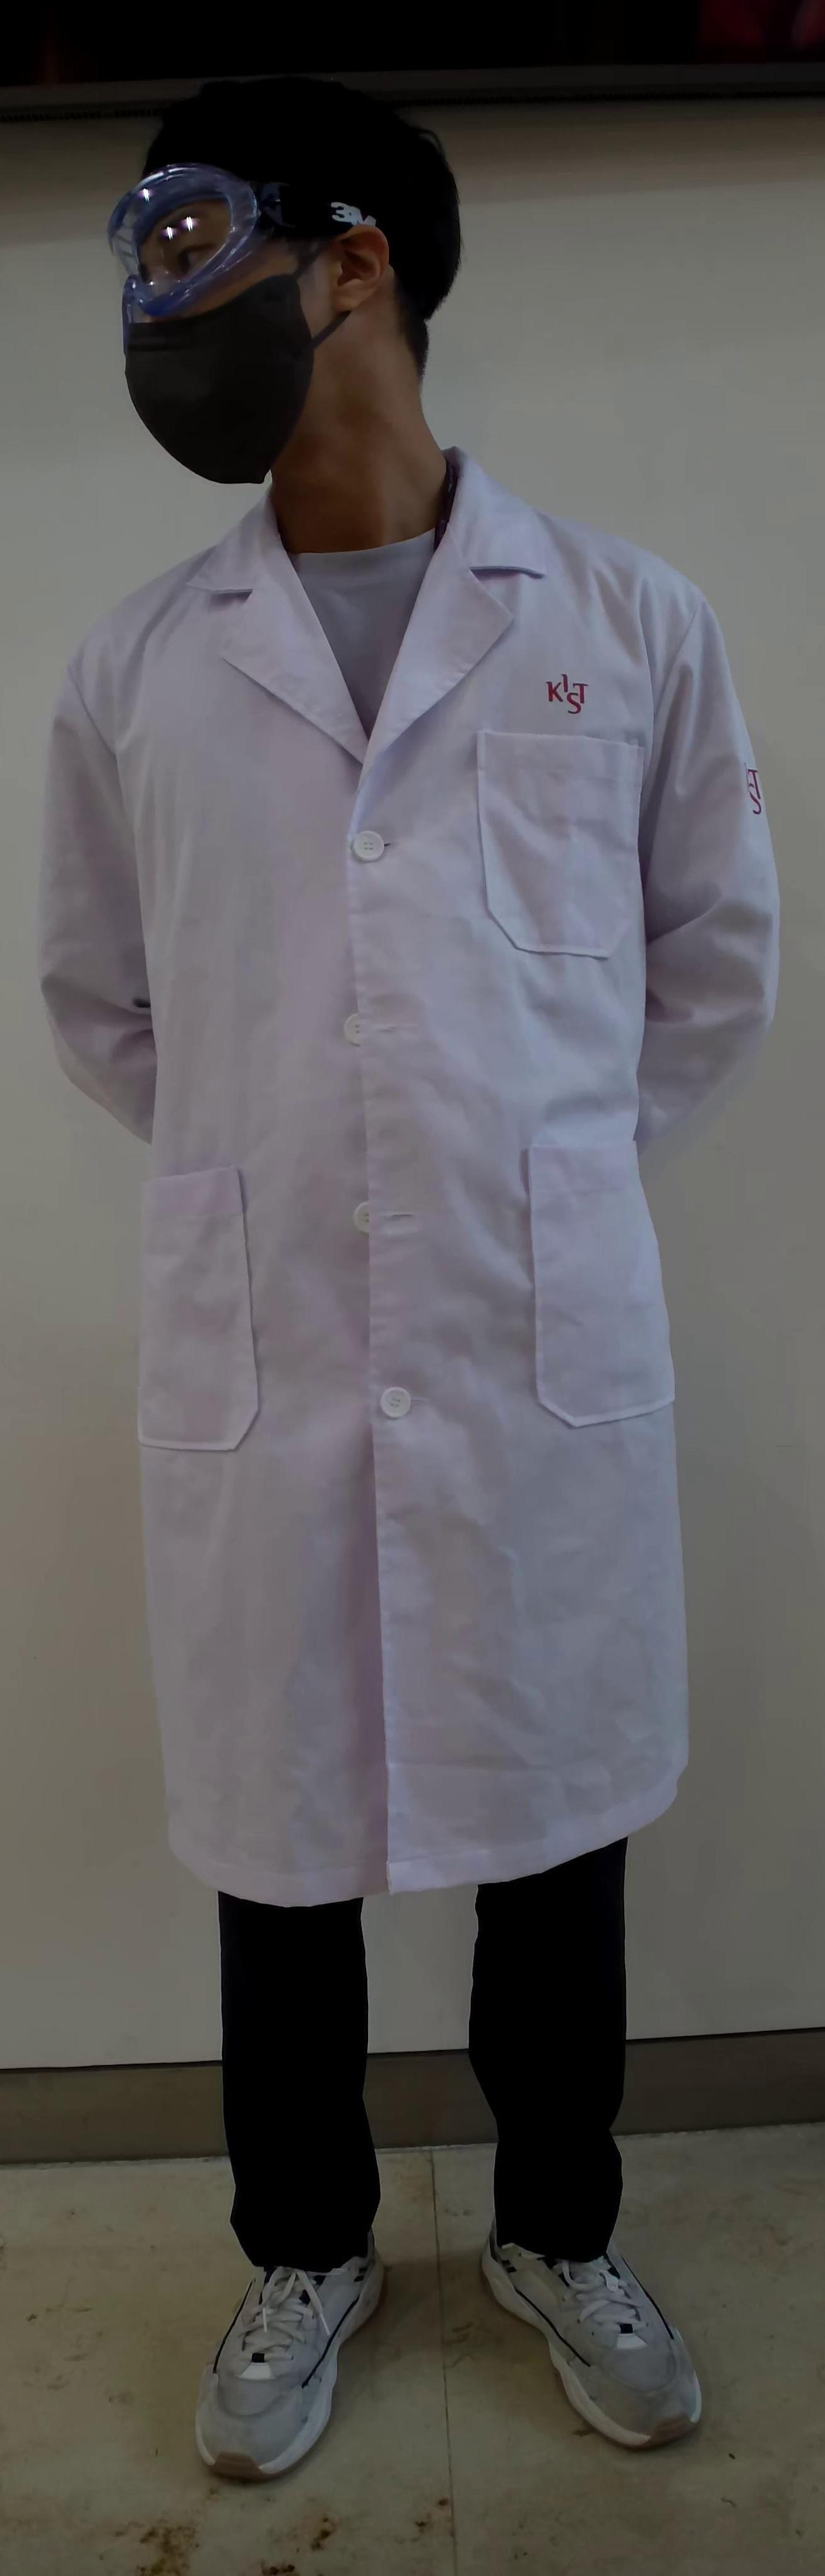lab_coat: (21, 545, 794, 1810)
